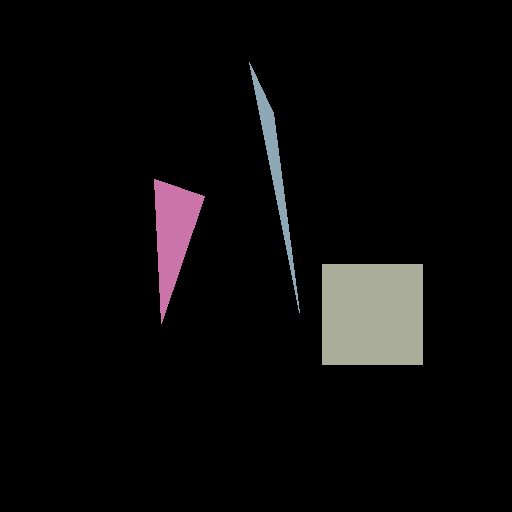square: (322, 264, 422, 364)
triangle: (249, 62, 299, 312), (154, 179, 204, 323)
